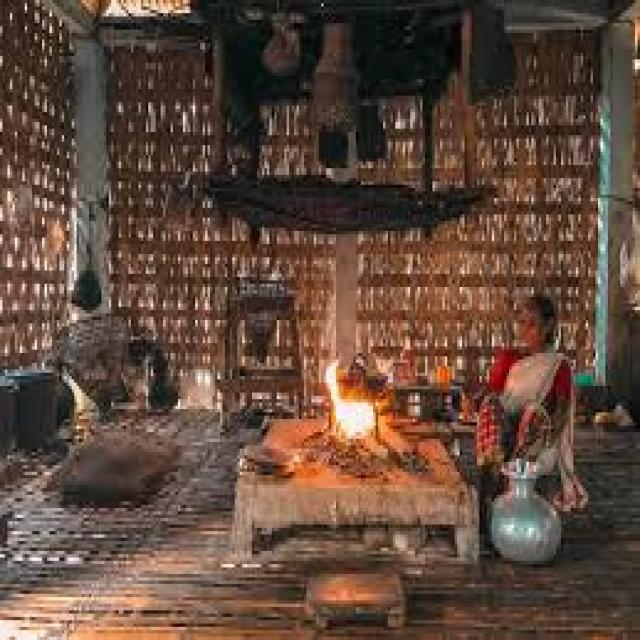fire: (324, 362, 376, 439)
